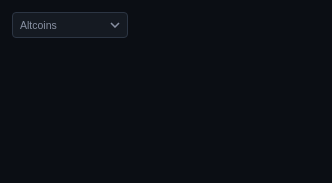
CategorySelect › opens styled options and changes category with the keyboard
The image size is (332, 183).
Press ArrowDown in the button with aria-label "Category for MX", box [12,12,128,38]
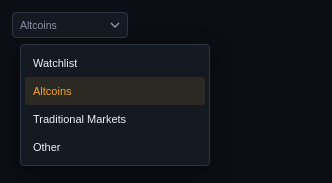
Press ArrowDown in the option "Altcoins", box [25,77,205,105]
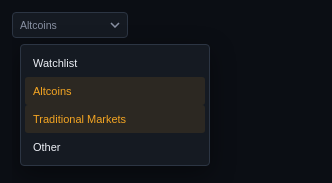
Click the option "Traditional Markets".
click(115, 119)  # box [25,105,205,133]
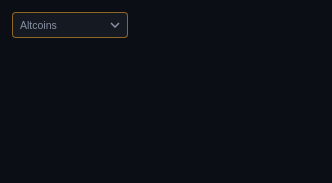
Result: the list is gone
